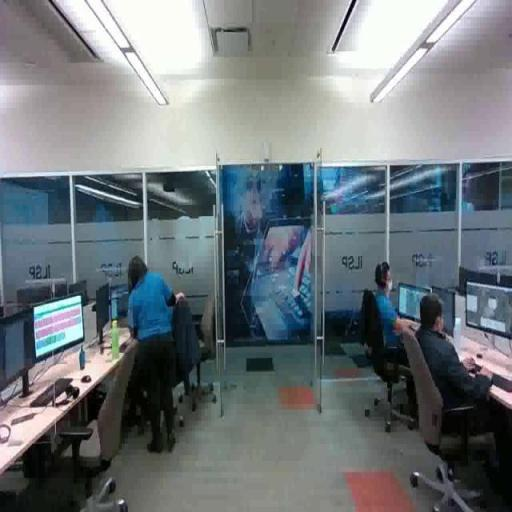person: (403, 296, 512, 459), (126, 252, 183, 457), (356, 254, 431, 372)
